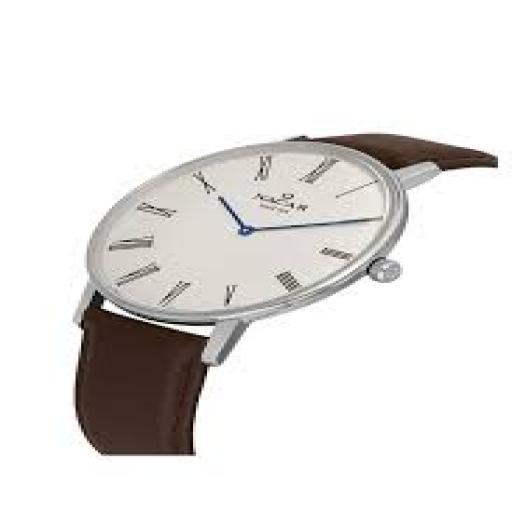KolSaati: (11, 62, 512, 476)
